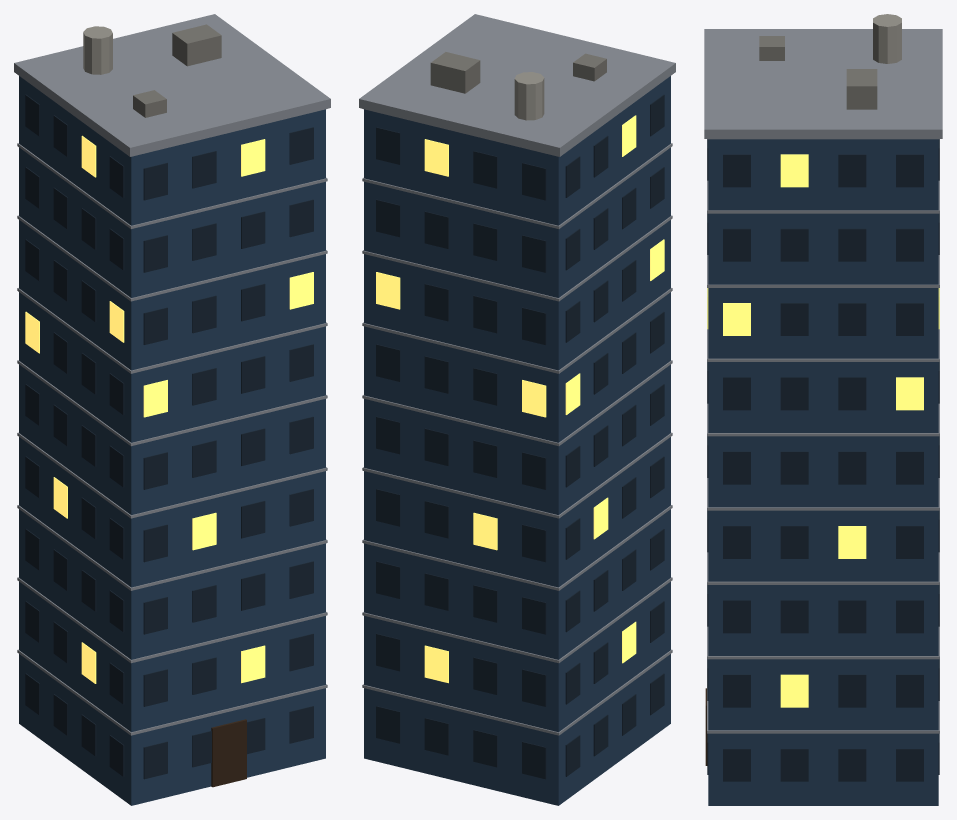
Rendered from building_3.glb.
3 renders of one model, left to right at view 1: azimuth 30°, elevation 25°; view 2: azimuth 150°, elevation 25°; view 3: azimuth 270°, elevation 25°, orthographic. The views are drawn at different scales.
Visible parts, largest first — view 1: building_3; view 2: building_3; view 3: building_3.
Part boxes in pixels (x1,y1,x2,y2): building_3: [14, 14, 330, 805]; building_3: [359, 14, 675, 805]; building_3: [704, 14, 942, 805].
Bounding box in the file's own units: 9.3 × 30.8 × 9.3.
